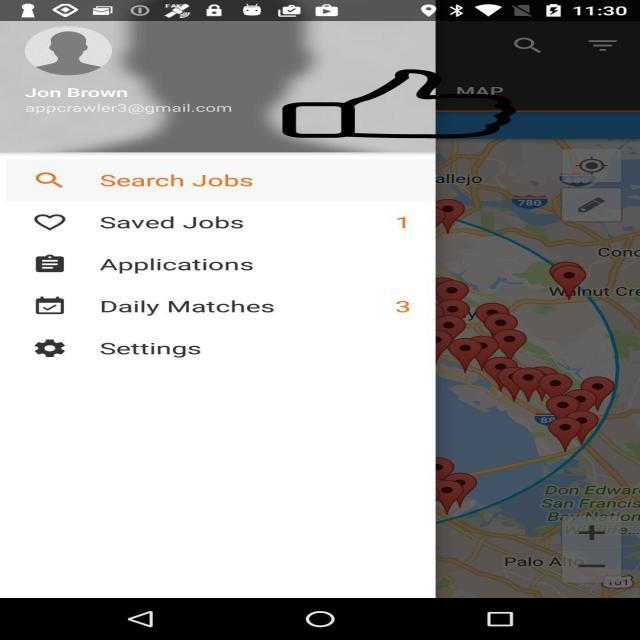privacy zuckering: (279, 70, 519, 138)
